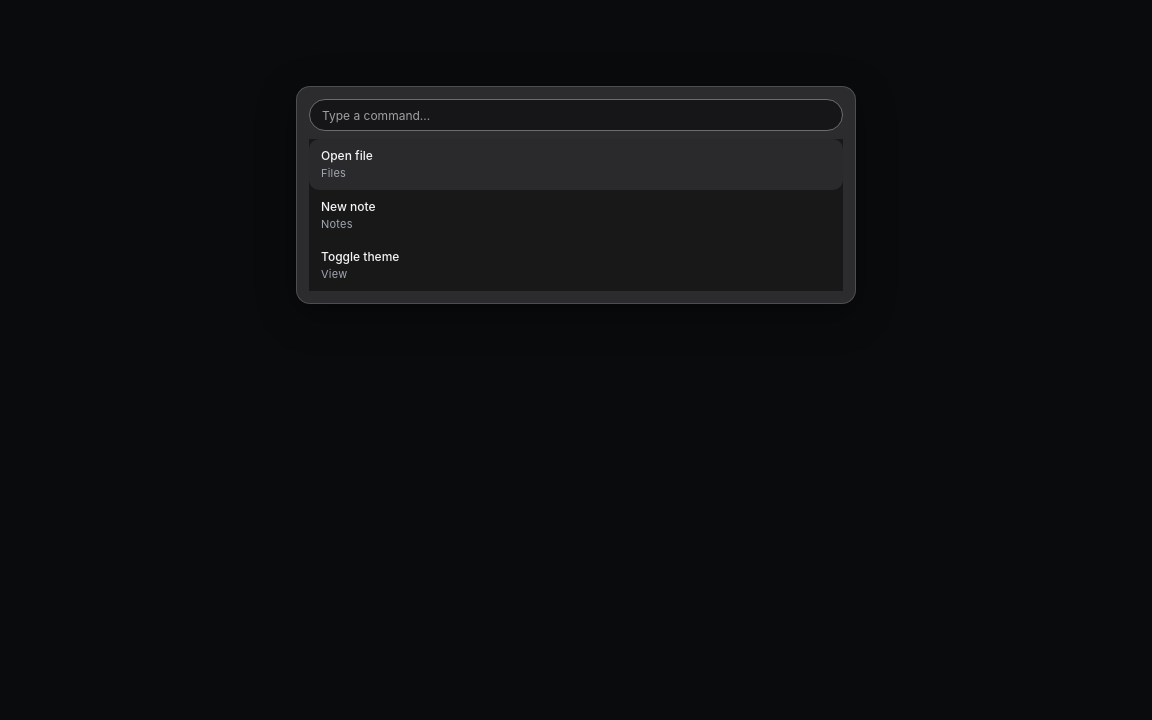
Test case: RegistryCommandPalette › shows empty state when no match
The width and height of the screenshot is (1152, 720).
Type "zzzqqqxxx" into the field with test id "registry-palette-input" at (576, 115), box [309,99,843,131]
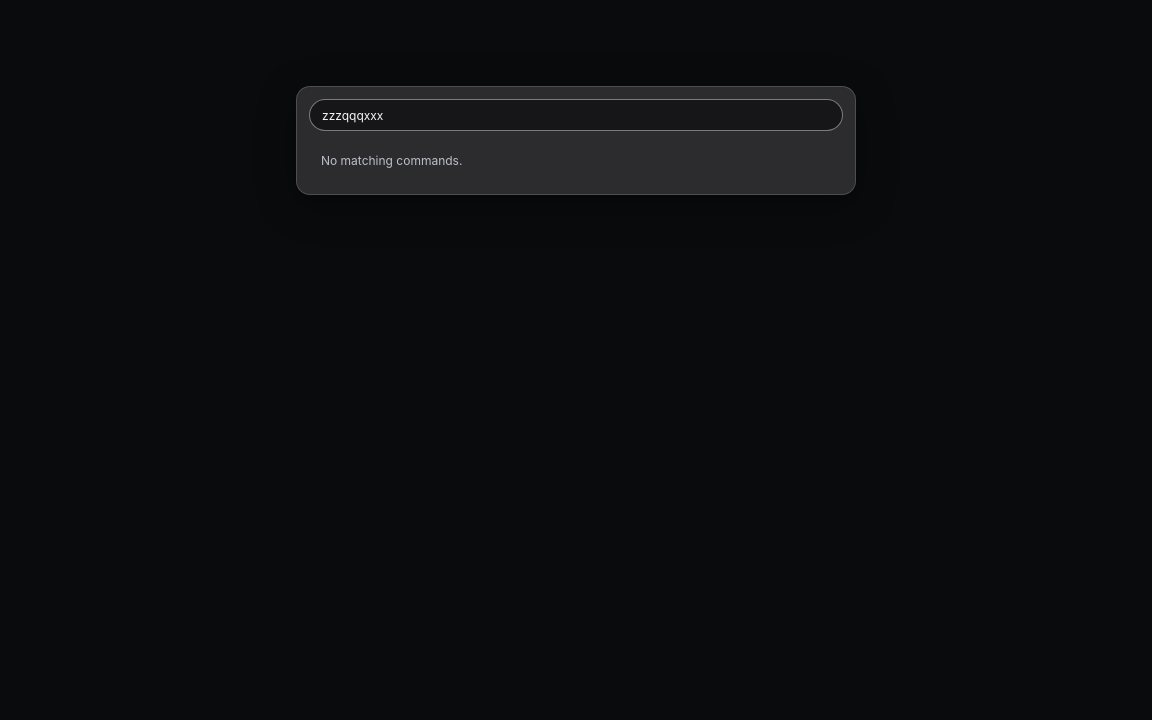
Check: the text "No matching commands." is shown, box [321,153,462,168]
